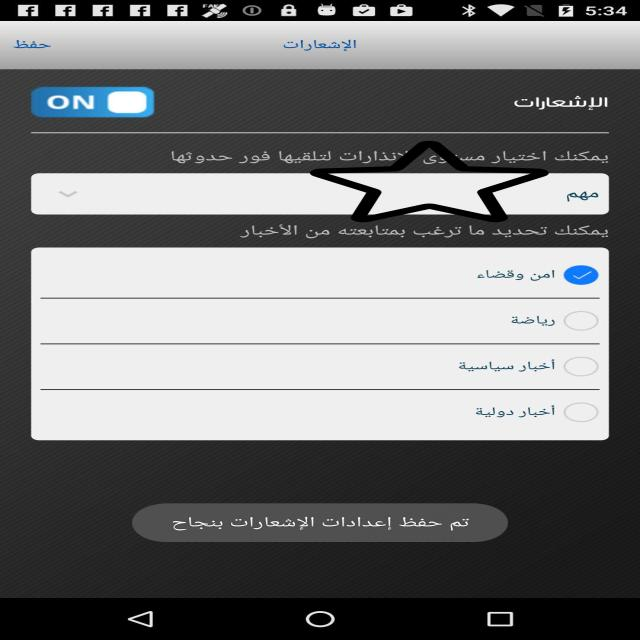forced continuity: (310, 139, 549, 224)
